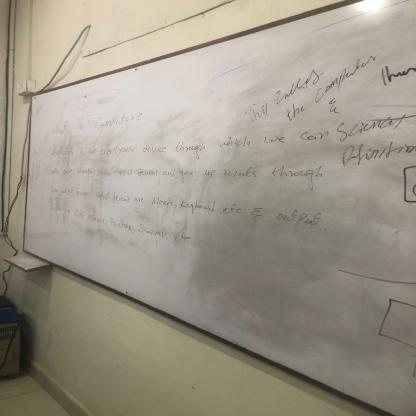Handwritten text: (42, 111, 410, 161), (47, 182, 328, 233), (45, 162, 327, 192), (42, 202, 175, 243), (46, 107, 139, 139)
Whiteboard: (21, 0, 416, 416)
